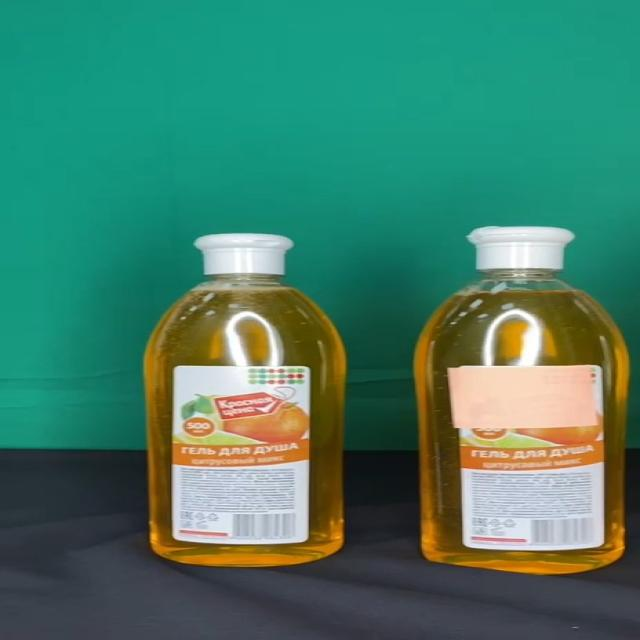Bottle: (415, 226, 629, 574), (142, 234, 345, 568)
Cap: (468, 227, 573, 270), (193, 234, 294, 275)
